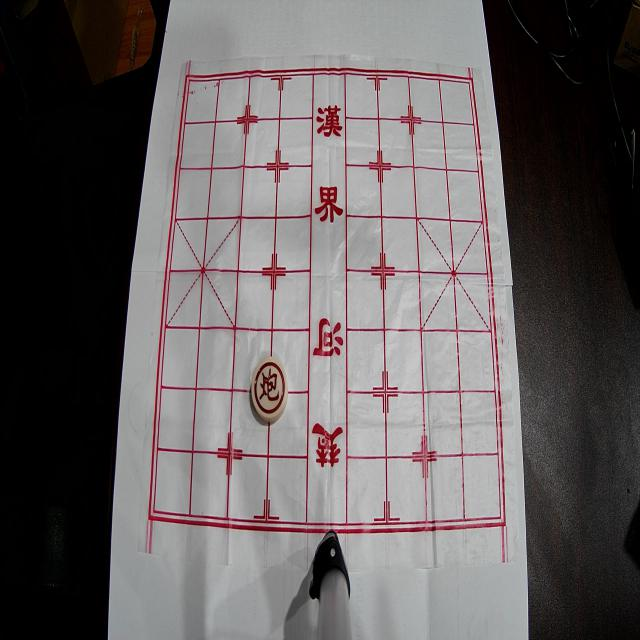red-cannon: (252, 357, 288, 422)
